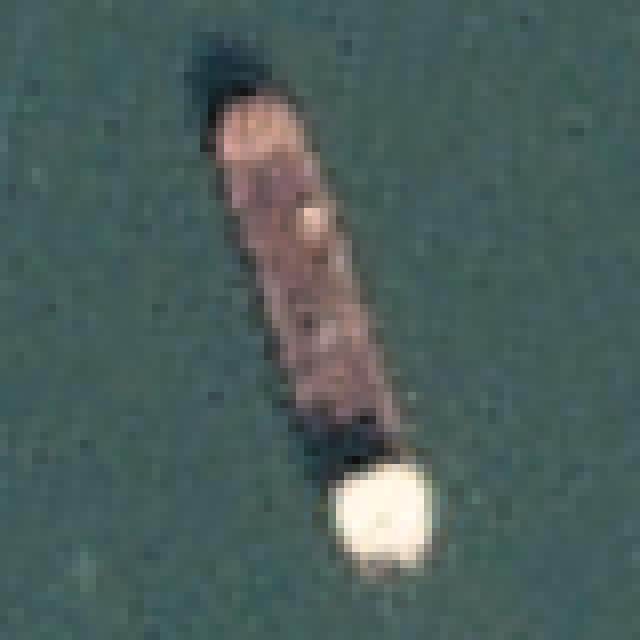ship: (170, 71, 510, 574)
